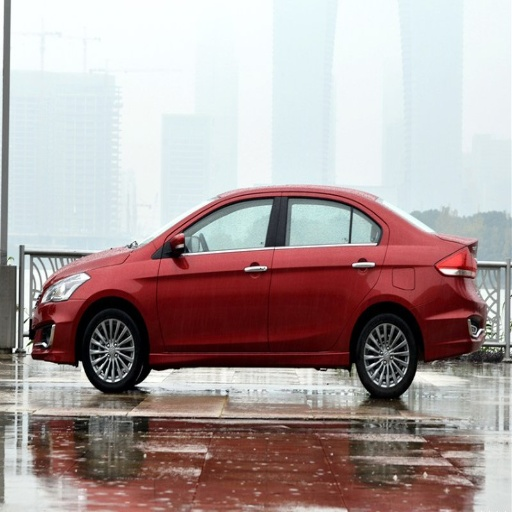back_left_door: (270, 194, 385, 350)
front_left_door: (157, 195, 282, 351)
